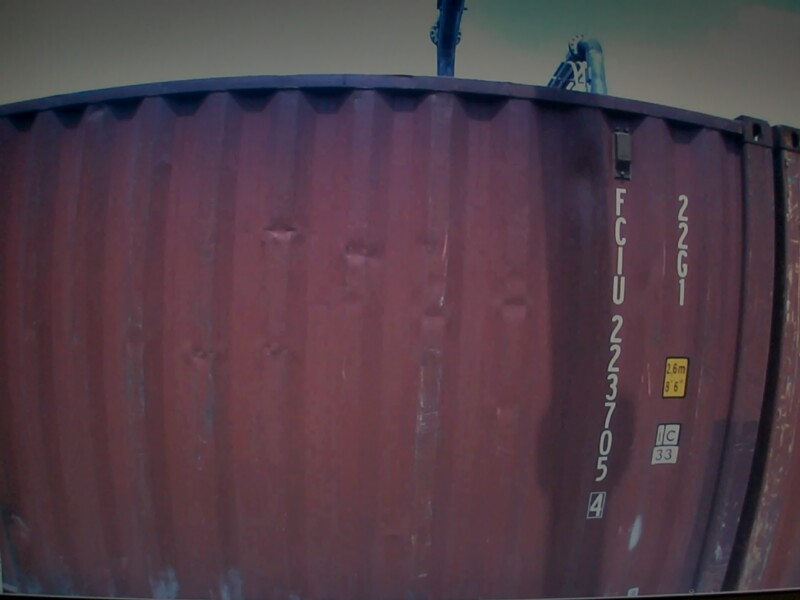container_no_door: (142, 63, 509, 558)
